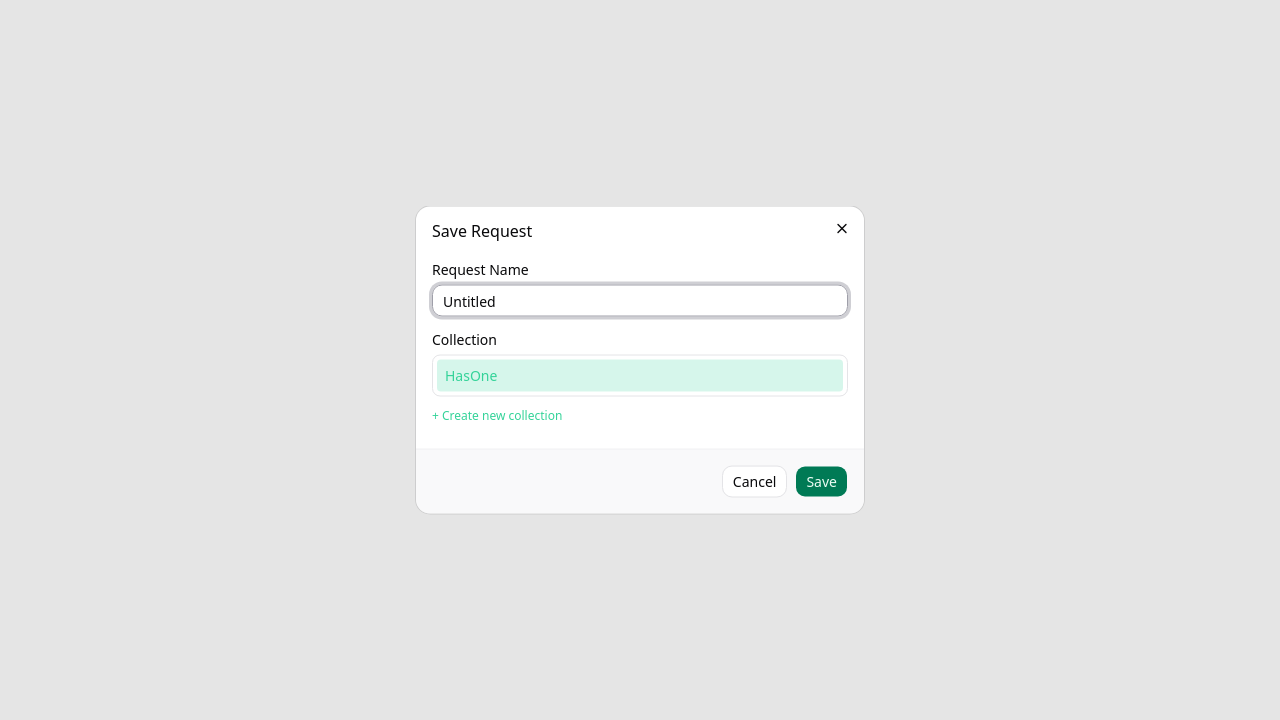
Test: SaveRequestModal › switches to new-collection UI via link when collections exist
Click the button with test id "create-new-collection-link": {"x": 497, "y": 416} [432, 408, 562, 424]
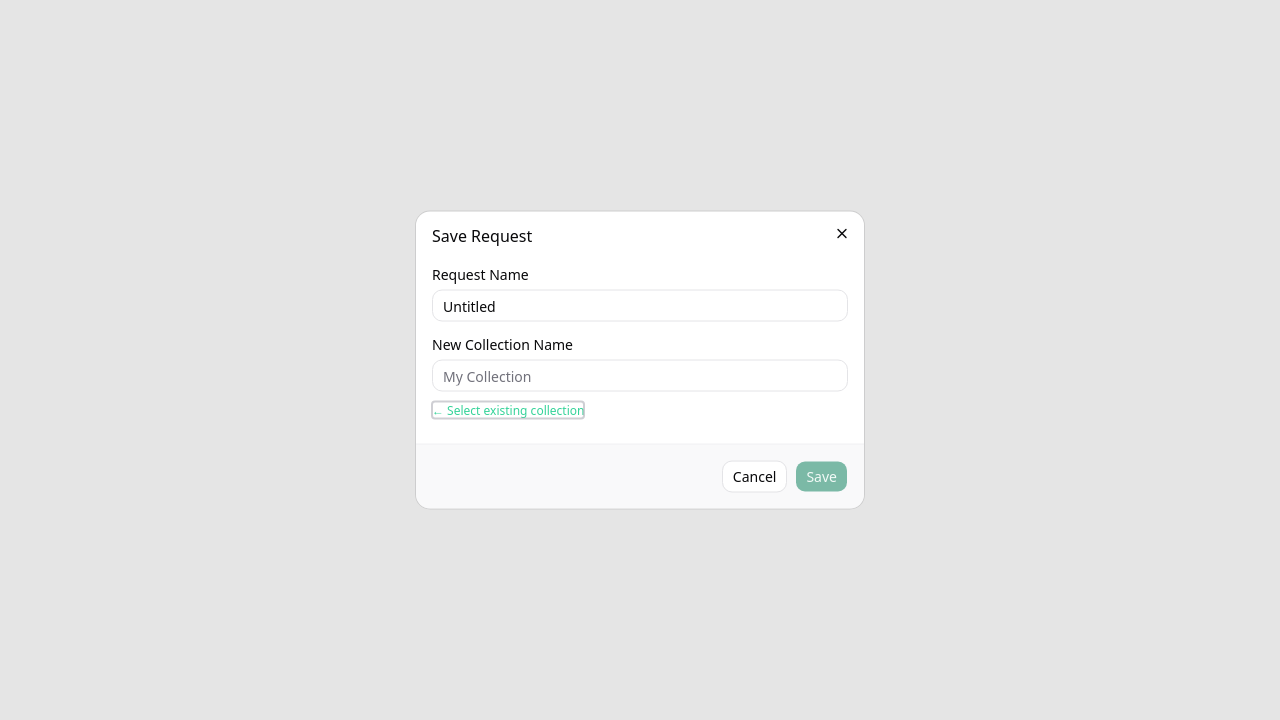
Expected: the field with test id "save-new-collection-name-input" is shown
Expected: the button with test id "save-modal-save-btn" is disabled, [795, 460, 848, 492]
In the field with test id "save-new-collection-name-input": {"x": 640, "y": 376} [432, 360, 848, 392], type "NewCol"
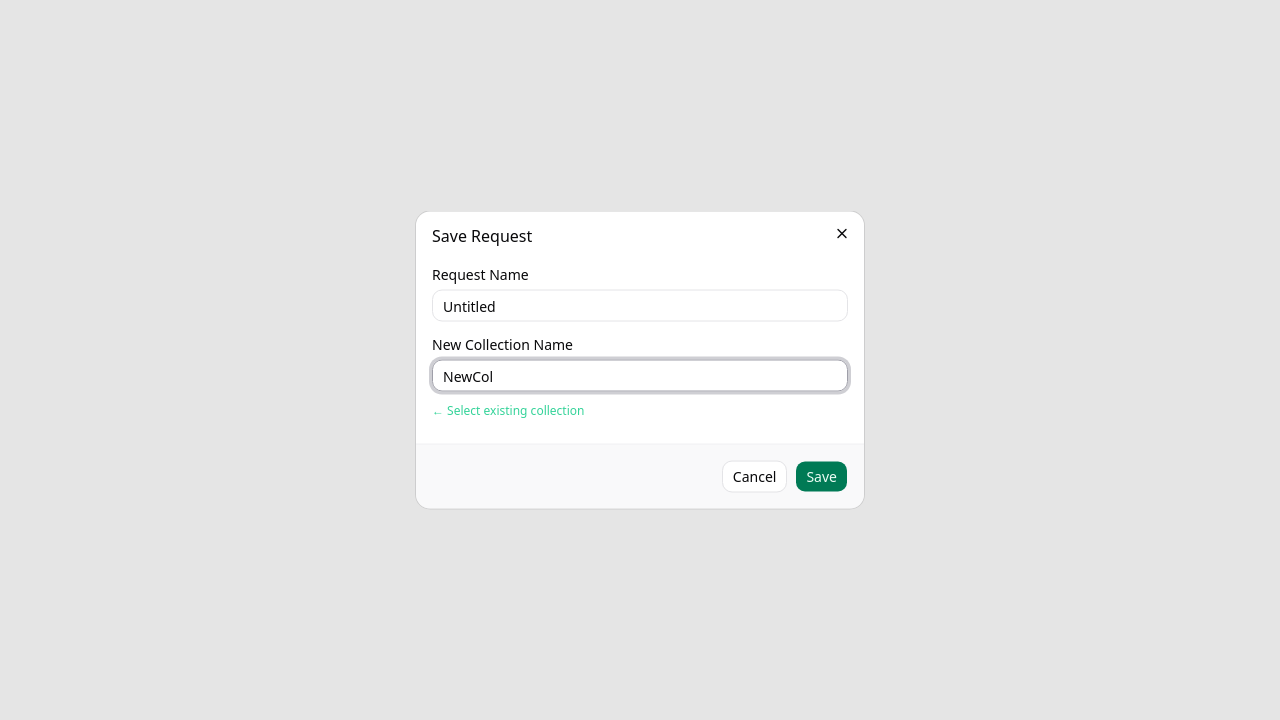
Expected: the button with test id "save-modal-save-btn" is enabled, [795, 460, 848, 492]
